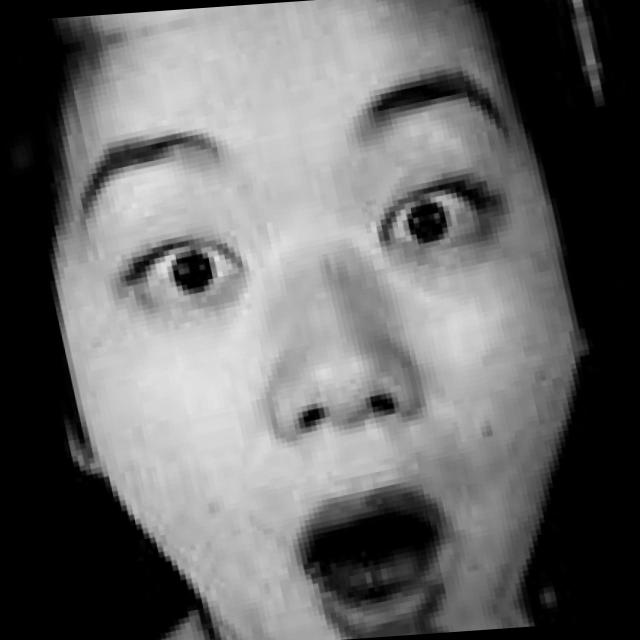surprise: (37, 0, 578, 640)
